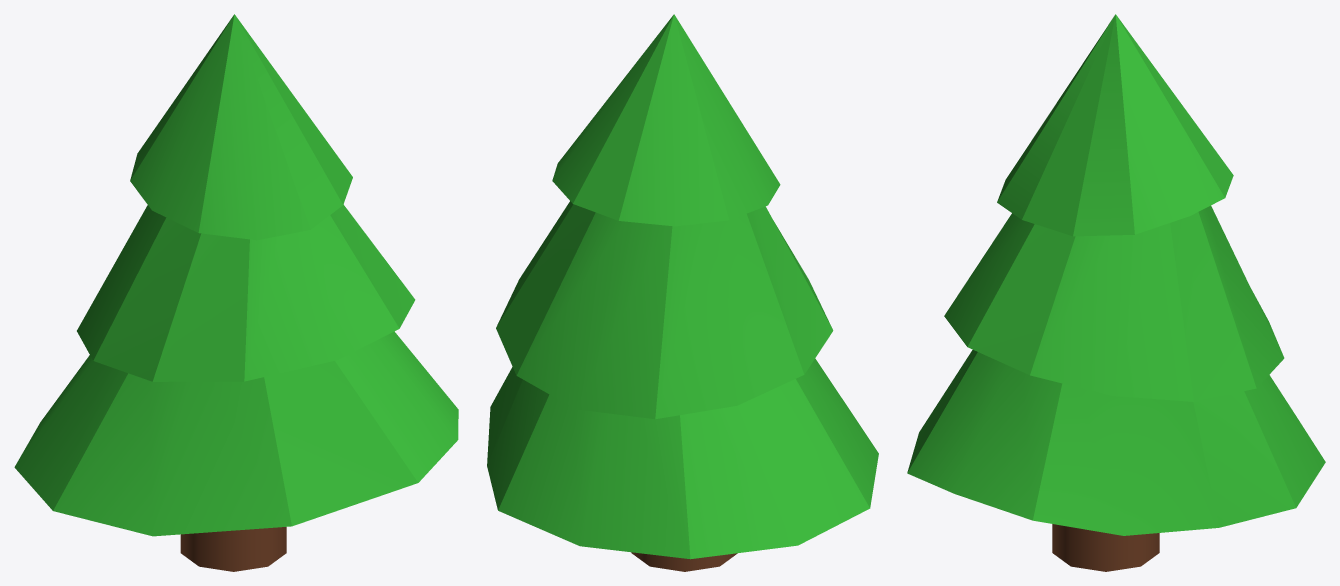
File: Tree02.FBX
3 views of the same model, side by side, from view 1: azimuth 30°, elevation 25°; view 2: azimuth 150°, elevation 25°; view 3: azimuth 270°, elevation 25° (orthographic).
Parts seen in each view (by area): view 1: Cylinder003, Cylinder004; view 2: Cylinder003, Cylinder004; view 3: Cylinder003, Cylinder004.
Part boxes in pixels (x1,y1,x2,y2): Cylinder003: [14, 14, 458, 536]; Cylinder004: [180, 527, 286, 571]; Cylinder003: [487, 14, 878, 559]; Cylinder004: [631, 552, 737, 571]; Cylinder003: [907, 14, 1325, 535]; Cylinder004: [1052, 524, 1159, 571].
Bounding box in the file's own units: 140 × 191 × 135.
